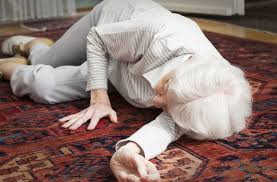falling: (11, 1, 254, 178)
